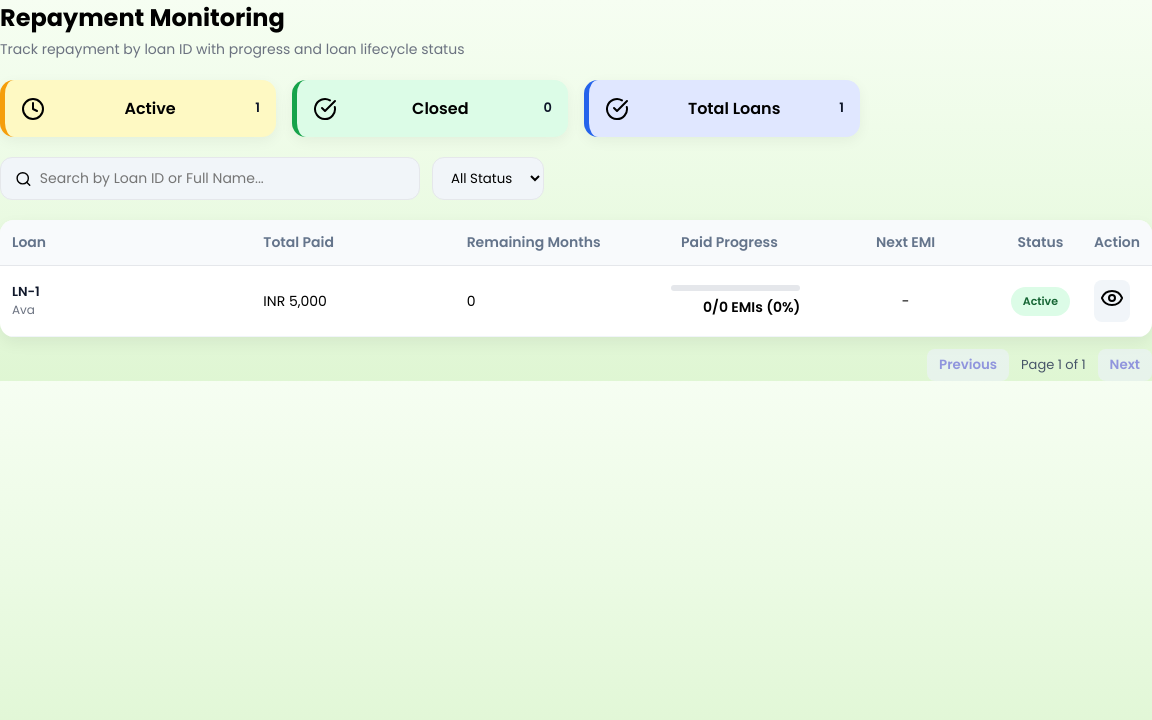
Repayments › opens repayment detail modal
Expected: the text "LN-1" is shown, [12,282,40,301]
Click the 3rd button: click(1112, 301) [1094,280,1130,322]
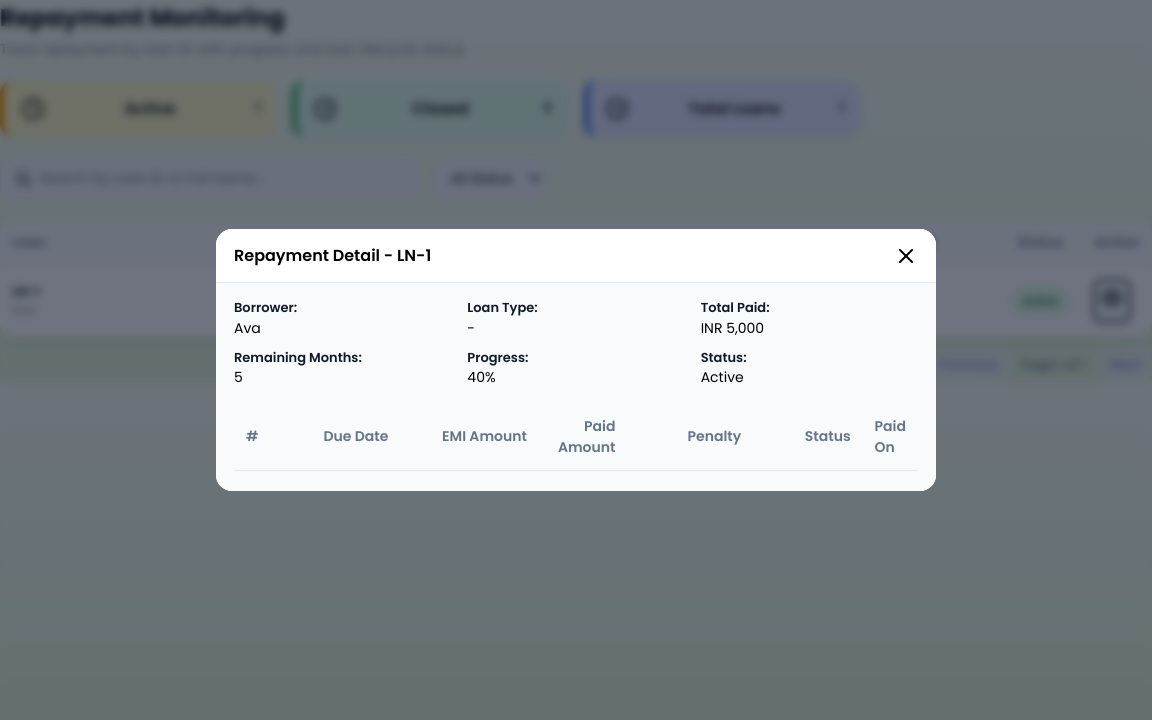
Now the heading "Repayment Detail - LN-1" is shown, box [234,243,431,268]
